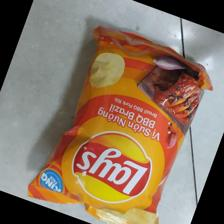Lays: (34, 23, 215, 224)
